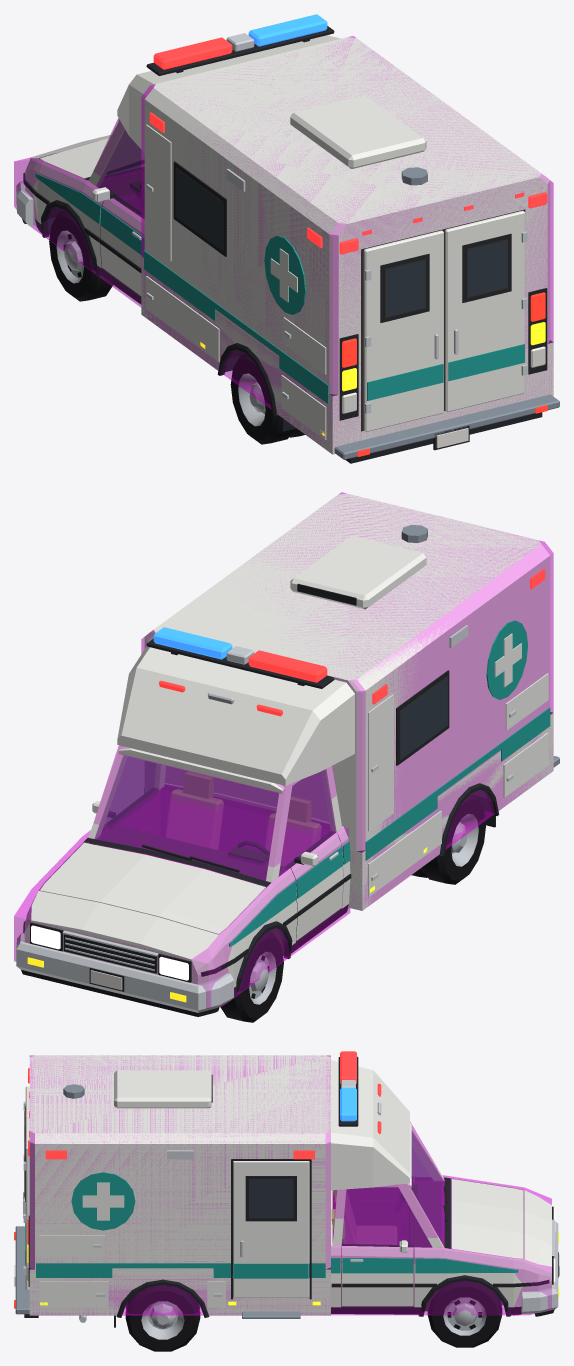
Rendered from ambulance.glb.
3 renders of one model, top to bottom at view 1: azimuth 30°, elevation 25°; view 2: azimuth 150°, elevation 25°; view 3: azimuth 270°, elevation 25°, orthographic. The views are drawn at different scales.
Parts seen in each view (by area): view 1: Body, Door_RR, Door_RL, Col_Box, Col_Body, Door_FL, Wheel_FL, Wheel_RL, Col_Cabin, Glass_Box_L, Glass_L, Glass_Rear_R (+3 smaller); view 2: Body, Col_Box, Col_Cabin, Glass_Windshield, Hood, Col_Body, Door_FL, Glass_L, Wheel_FL, Wheel_RL, Glass_Box_L, Glass_R (+1 smaller); view 3: Body, Col_Cabin, Col_Body, Col_Box, Hood, Door_FR, Glass_R, Wheel_RR, Wheel_FR, Glass_Windshield, Door_FL, Glass_Box_R (+1 smaller).
Boxes of the visible parts, x1,y1,x2,y2 form: Body: (16, 14, 559, 463); Door_RR: (445, 210, 527, 412); Door_RL: (363, 230, 443, 431); Col_Box: (141, 36, 553, 453); Col_Body: (14, 142, 141, 307); Door_FL: (92, 187, 144, 295); Wheel_FL: (49, 210, 112, 301); Wheel_RL: (230, 353, 305, 444); Col_Cabin: (94, 118, 141, 216); Glass_Box_L: (175, 168, 222, 250); Glass_L: (97, 130, 143, 216); Glass_Rear_R: (468, 240, 507, 296); Body: (16, 493, 559, 1016); Col_Box: (141, 492, 553, 908); Col_Cabin: (94, 745, 338, 880); Glass_Windshield: (95, 755, 278, 880); Hood: (40, 843, 265, 934); Col_Body: (14, 827, 350, 1008); Door_FL: (286, 831, 344, 940); Glass_L: (279, 770, 334, 875); Wheel_FL: (220, 931, 283, 1022); Wheel_RL: (411, 793, 485, 884); Glass_Box_L: (400, 677, 447, 759); Glass_R: (104, 757, 155, 825); Body: (14, 1051, 559, 1327); Col_Cabin: (333, 1122, 444, 1249); Col_Body: (331, 1175, 551, 1315); Col_Box: (29, 1055, 330, 1315); Hood: (451, 1179, 523, 1259); Door_FR: (342, 1240, 413, 1306); Glass_R: (342, 1187, 431, 1246); Wheel_RR: (125, 1285, 200, 1351); Wheel_FR: (427, 1280, 502, 1347); Glass_Windshield: (411, 1132, 442, 1243); Door_FL: (347, 1177, 413, 1234); Glass_Box_R: (249, 1179, 293, 1218).
Size of what is drawn, in the model's own units: 2.42 by 2.86 by 6.15.
